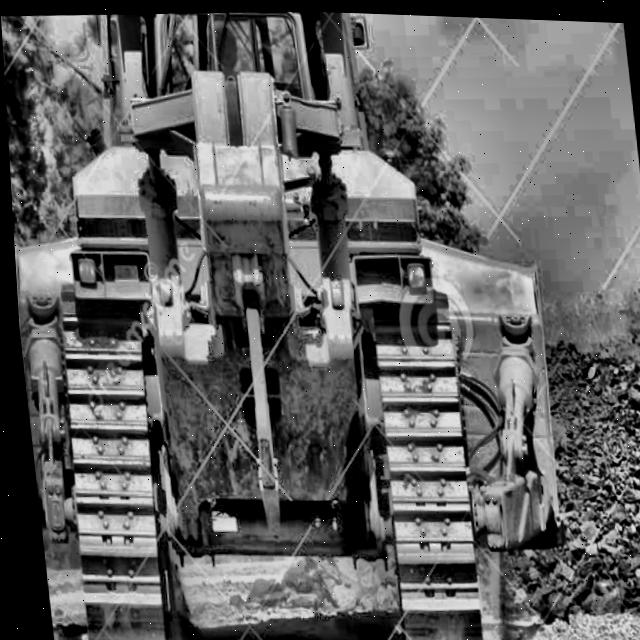buldozerpayloadergrader: (0, 0, 613, 640)
